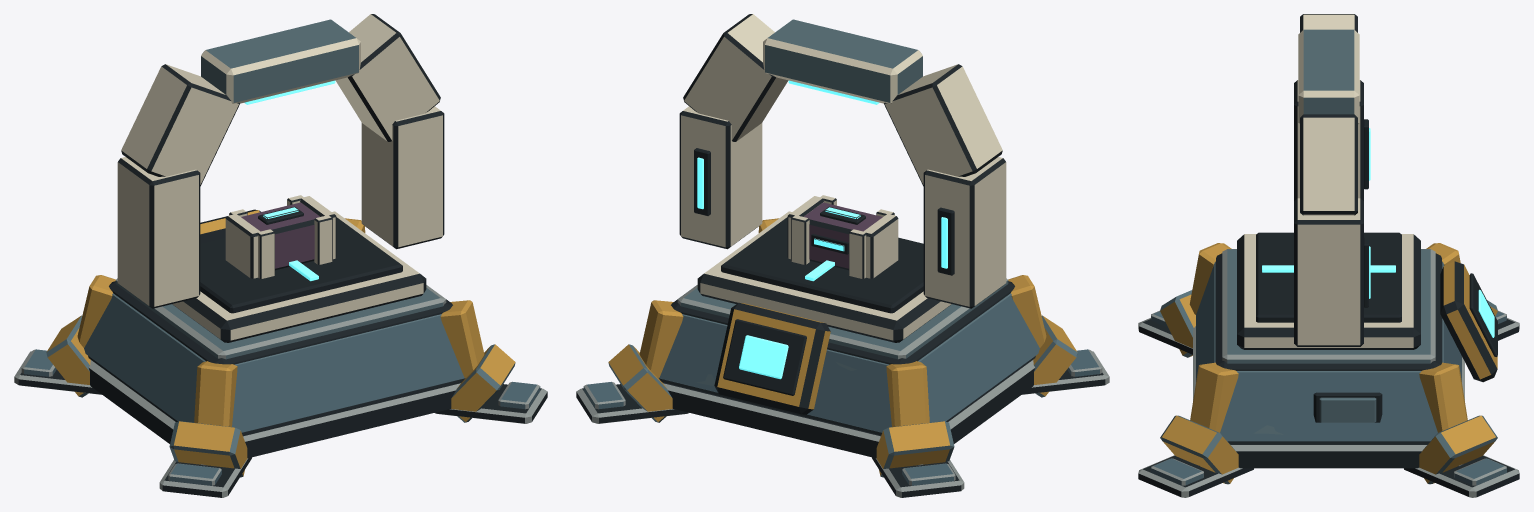
File: research_center.glb
3 renders of one model, left to right at view 1: azimuth 30°, elevation 25°; view 2: azimuth 150°, elevation 25°; view 3: azimuth 270°, elevation 25°, orthographic.
Parts seen in each view (by area): view 1: Tapered petrol armour, Left arch outer, Right arch outer, Scanner crosspiece, Left arch shoulder, Recessed analysis tray, Tray ivory rim, Ground plinth, Right arch shoulder, Top rim, Pedestal dark seams, Folding leg -1 -1 (+16 smaller); view 2: Tapered petrol armour, Left arch outer, Right arch outer, Scanner crosspiece, Left arch shoulder, Recessed analysis tray, Ground plinth, Tray ivory rim, Right arch shoulder, Sloped screen housing, Top rim, Pedestal dark seams (+20 smaller); view 3: Tapered petrol armour, Right arch outer, Tray ivory rim, Recessed analysis tray, Top rim, Right arch shoulder, Scanner crosspiece, Ground plinth, Pedestal dark seams, Sloped screen housing, Folding leg +1 -1, Folding leg +1 +1 (+16 smaller).
Boxes of the visible parts, x1,y1,x2,y2 form: Tapered petrol armour: [84, 293, 465, 432]; Left arch outer: [117, 157, 200, 308]; Right arch outer: [361, 106, 444, 249]; Scanner crosspiece: [201, 19, 360, 103]; Left arch shoulder: [121, 64, 239, 186]; Recessed analysis tray: [200, 217, 402, 313]; Tray ivory rim: [172, 211, 426, 342]; Ground plinth: [88, 360, 461, 465]; Right arch shoulder: [335, 14, 440, 141]; Top rim: [115, 278, 446, 359]; Pedestal dark seams: [88, 281, 464, 435]; Folding leg -1 -1: [169, 421, 247, 477]; Tapered petrol armour: [658, 293, 1039, 432]; Left arch outer: [923, 157, 1006, 308]; Right arch outer: [679, 106, 762, 249]; Scanner crosspiece: [763, 19, 922, 103]; Left arch shoulder: [884, 64, 1002, 186]; Recessed analysis tray: [721, 217, 923, 313]; Ground plinth: [662, 360, 1035, 465]; Tray ivory rim: [697, 211, 951, 342]; Right arch shoulder: [683, 14, 788, 141]; Sloped screen housing: [714, 302, 830, 414]; Top rim: [677, 278, 1008, 359]; Pedestal dark seams: [659, 281, 1035, 435]; Tapered petrol armour: [1196, 262, 1461, 441]; Right arch outer: [1294, 198, 1363, 346]; Tray ivory rim: [1237, 234, 1420, 349]; Recessed analysis tray: [1256, 232, 1401, 322]; Top rim: [1222, 249, 1435, 363]; Right arch shoulder: [1300, 114, 1357, 215]; Scanner crosspiece: [1298, 29, 1359, 123]; Ground plinth: [1193, 326, 1464, 468]; Pedestal dark seams: [1215, 253, 1442, 443]; Sloped screen housing: [1440, 261, 1497, 382]; Folding leg +1 -1: [1160, 415, 1238, 484]; Folding leg +1 +1: [1419, 415, 1497, 484].
Bounding box in the file's own units: 1.52 × 1.33 × 1.31.
